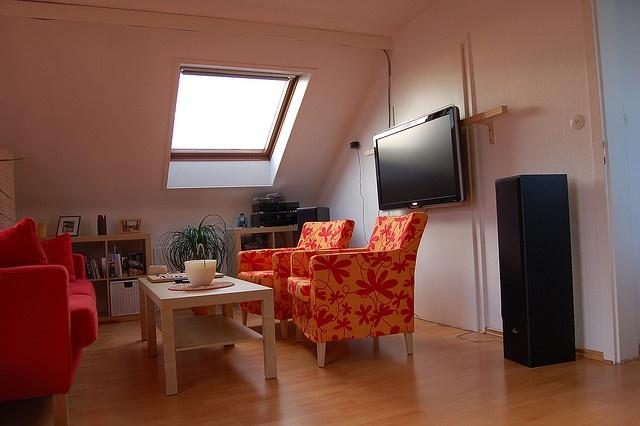AIO PC-Monitor-TV: (371, 102, 467, 212)
Meja: (136, 271, 278, 396)
